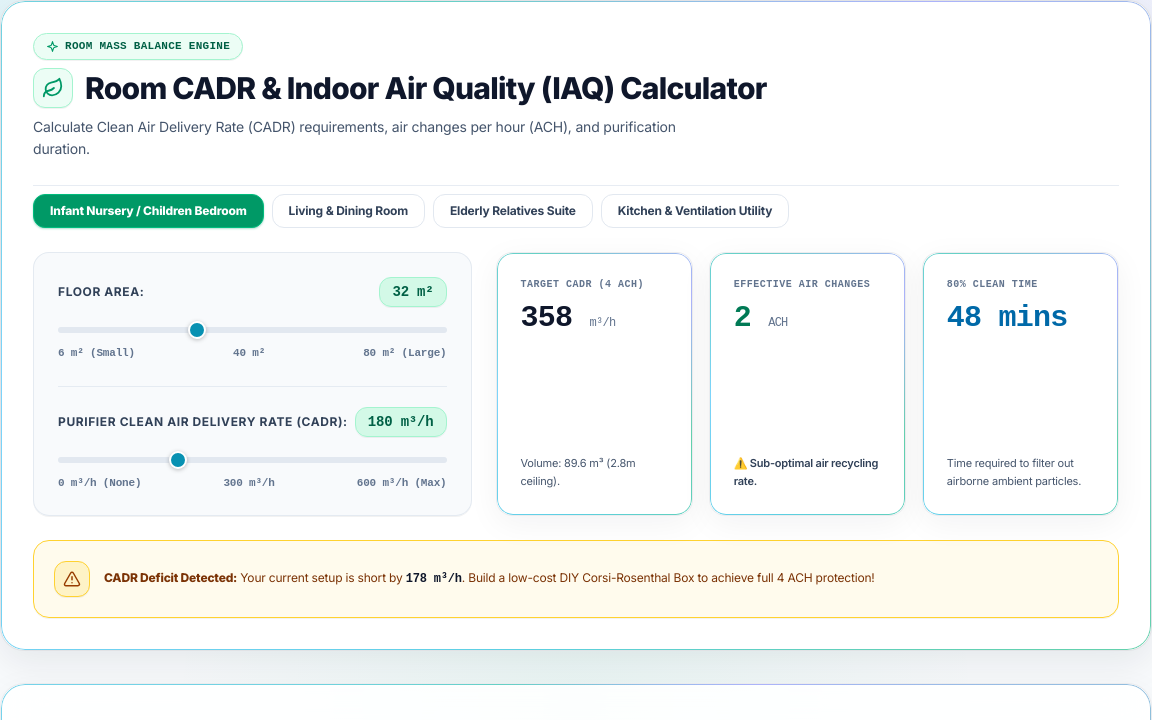
Test: IAQ Center Room & CADR Inputs › switches selected room tab in CADR calculator
The image size is (1152, 720).
Click the button "Living & Dining Room" at (348, 211), box 272,194 -> 425,228
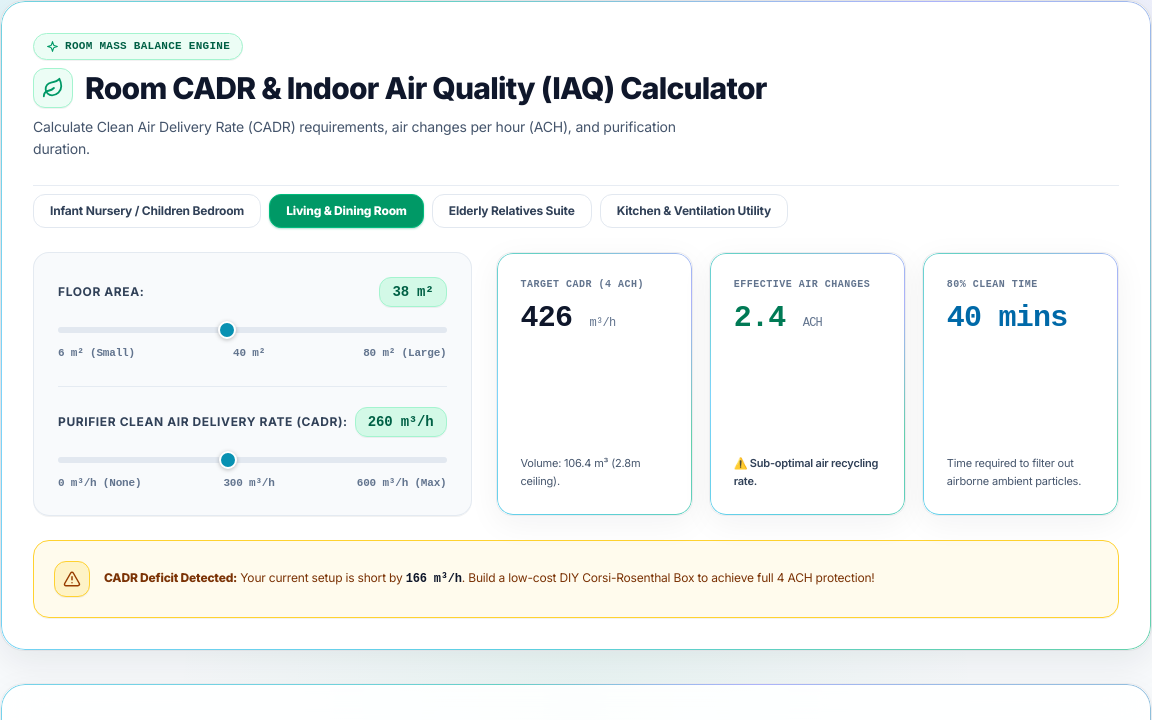
Expected: the button "Living & Dining Room" is pressed, 269,194 -> 424,228
